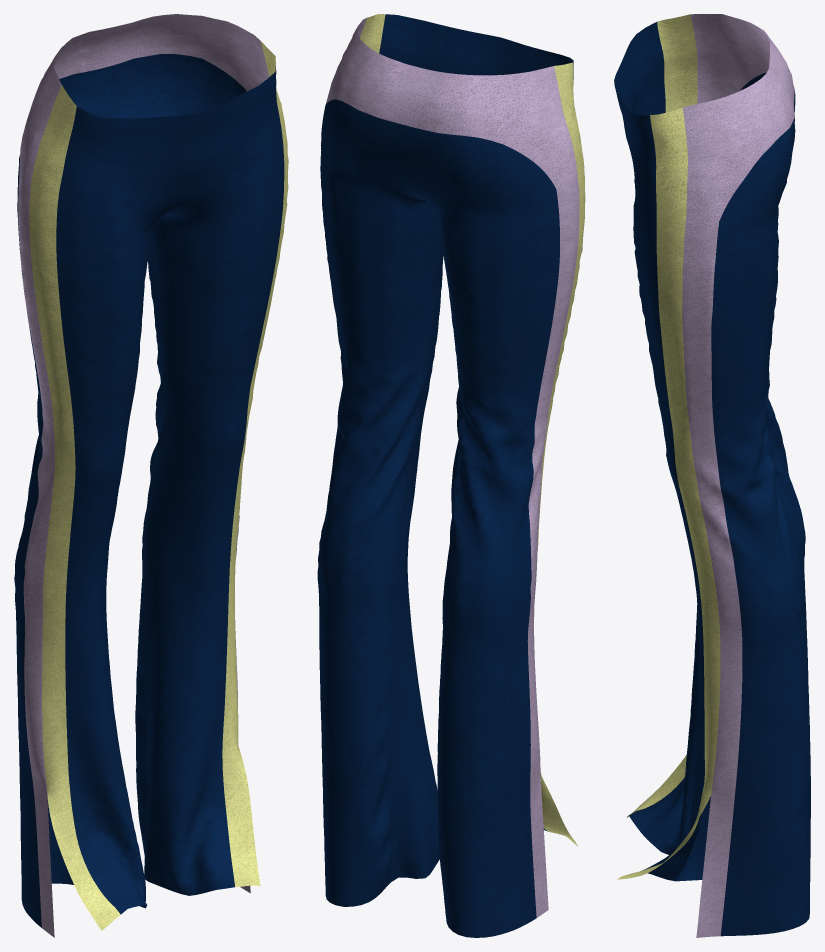
The picture shows the model from 3 angles, left to right: view 1: azimuth 30°, elevation 25°; view 2: azimuth 150°, elevation 25°; view 3: azimuth 270°, elevation 25°; orthographic projection. The views are drawn at different scales.
Visible parts, largest first — view 1: BodyBottom; view 2: BodyBottom; view 3: BodyBottom.
Part boxes in pixels (x1,y1,x2,y2): BodyBottom: (14, 14, 288, 937); BodyBottom: (317, 14, 585, 937); BodyBottom: (614, 14, 810, 937).
Size of the model in its own units: 0.301 by 0.9693 by 0.206.
7 materials, 7 textured.
